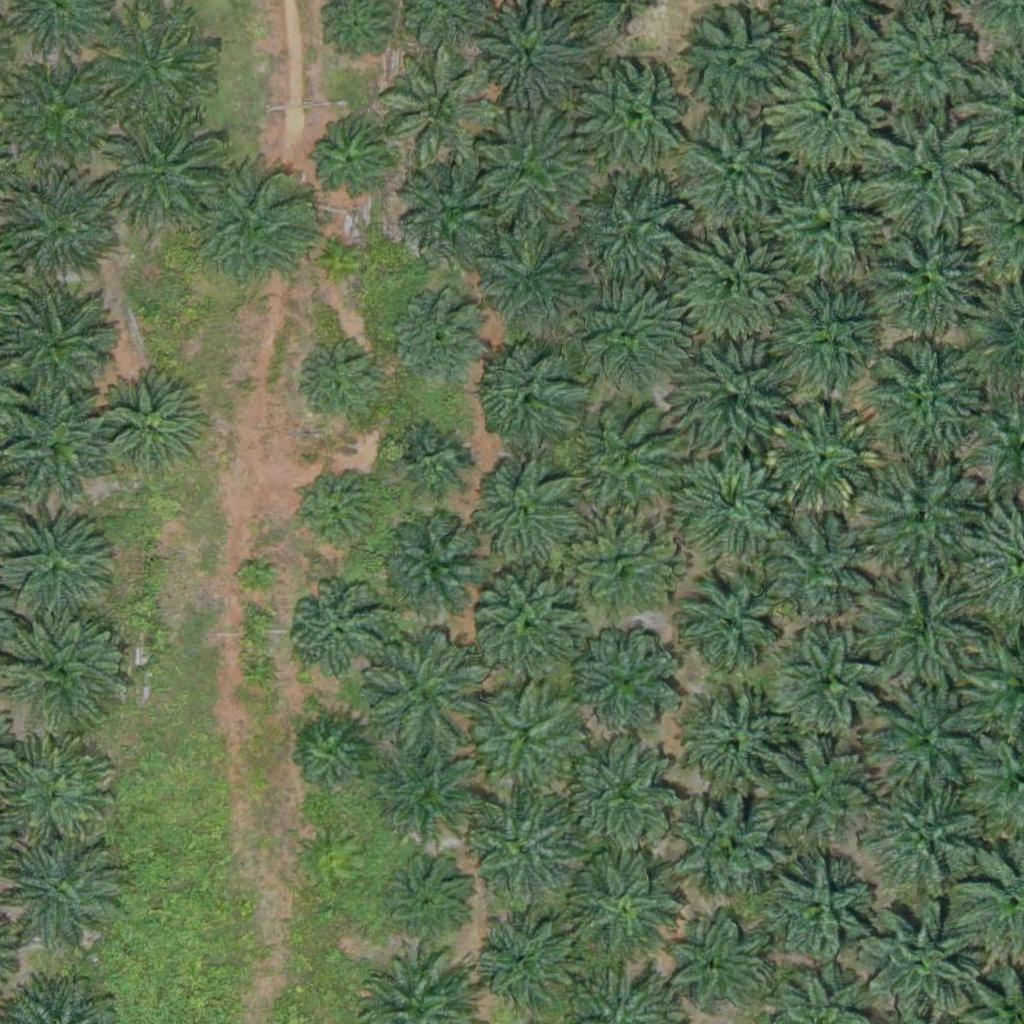Kelapa_Sawit: (3, 58, 128, 184), (93, 14, 218, 140), (576, 58, 701, 184), (673, 3, 798, 129), (782, 58, 907, 184), (865, 112, 990, 238), (861, 215, 986, 341), (861, 334, 986, 460), (859, 454, 984, 580), (849, 569, 974, 695), (470, 104, 595, 230), (95, 107, 220, 233), (359, 628, 484, 754), (865, 677, 990, 803), (863, 771, 988, 897), (195, 161, 320, 286), (773, 170, 886, 284), (773, 278, 886, 392), (382, 51, 495, 164), (873, 7, 986, 120), (568, 404, 681, 517), (562, 510, 675, 623), (474, 571, 587, 684), (464, 455, 577, 568), (474, 339, 587, 452), (479, 221, 592, 334), (95, 374, 208, 487), (572, 621, 685, 734), (680, 691, 793, 804), (567, 736, 680, 849), (567, 849, 680, 962), (665, 787, 778, 900), (676, 230, 788, 344), (680, 119, 792, 233), (1, 388, 113, 502), (759, 738, 871, 852), (767, 400, 879, 513), (766, 516, 878, 629), (673, 569, 785, 682), (673, 445, 785, 558), (680, 343, 792, 456), (572, 177, 684, 290), (571, 278, 683, 391), (399, 160, 511, 273), (1, 173, 113, 286), (774, 625, 886, 738), (472, 687, 584, 800), (373, 738, 485, 851), (468, 794, 580, 907), (761, 851, 873, 964), (392, 289, 492, 390), (384, 520, 484, 621), (476, 915, 576, 1016), (664, 915, 764, 1016), (288, 583, 388, 683), (297, 341, 385, 429), (295, 469, 383, 557), (307, 117, 395, 205), (385, 852, 472, 940), (294, 717, 369, 793), (396, 424, 471, 499), (330, 240, 368, 278), (238, 560, 275, 598)
